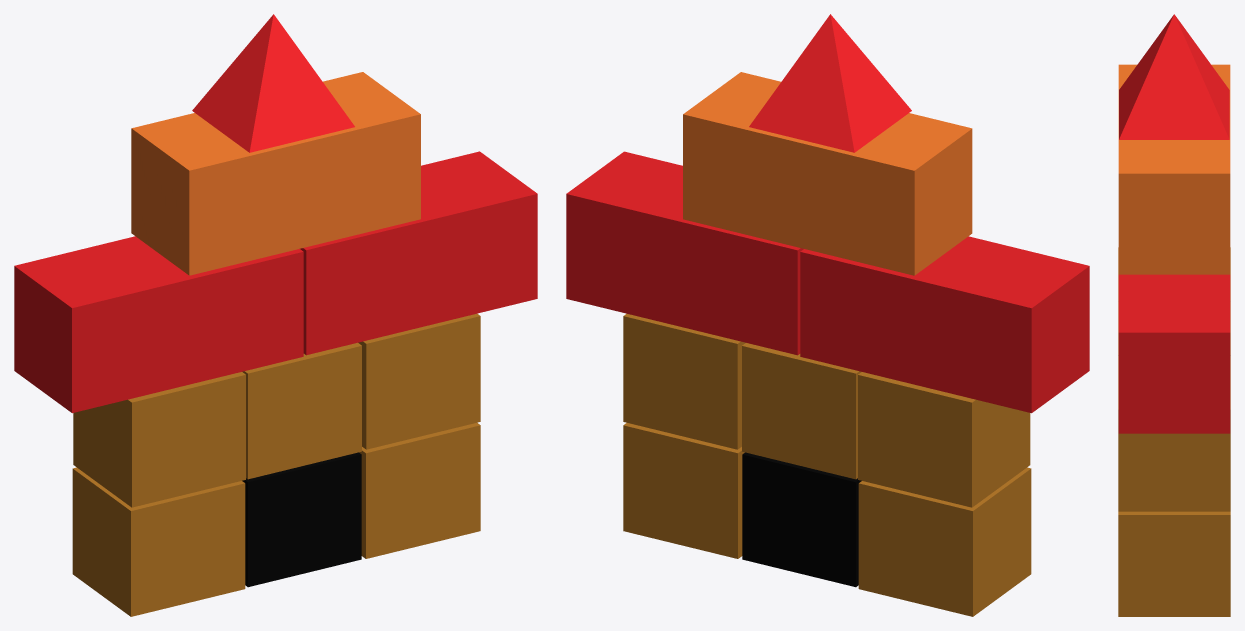
3 views of the same model, side by side, from view 1: azimuth 30°, elevation 25°; view 2: azimuth 150°, elevation 25°; view 3: azimuth 270°, elevation 25° (orthographic). The views are drawn at different scales.
Parts seen in each view (by area): view 1: node_id5, node_id20, node_id11, node_id29, node_id26, node_id14, node_id23, node_id17, node_id8, node_id32; view 2: node_id5, node_id20, node_id11, node_id29, node_id26, node_id14, node_id23, node_id17, node_id8, node_id32; view 3: node_id11, node_id20, node_id14, node_id32, node_id23.
Part boxes in pixels (bbox=[...]): node_id5: bbox=[14, 236, 303, 413]; node_id20: bbox=[131, 72, 420, 275]; node_id11: bbox=[300, 151, 537, 355]; node_id29: bbox=[72, 467, 245, 616]; node_id26: bbox=[73, 372, 245, 507]; node_id14: bbox=[359, 423, 480, 558]; node_id23: bbox=[358, 313, 480, 449]; node_id17: bbox=[242, 342, 361, 479]; node_id8: bbox=[242, 452, 361, 587]; node_id32: bbox=[192, 14, 354, 152]; node_id5: bbox=[800, 236, 1089, 413]; node_id20: bbox=[683, 72, 972, 275]; node_id11: bbox=[566, 151, 803, 355]; node_id29: bbox=[858, 467, 1031, 616]; node_id26: bbox=[858, 372, 1030, 507]; node_id14: bbox=[623, 423, 744, 558]; node_id23: bbox=[623, 314, 745, 449]; node_id17: bbox=[742, 343, 861, 479]; node_id8: bbox=[742, 452, 861, 587]; node_id32: bbox=[749, 14, 911, 152]; node_id11: bbox=[1118, 274, 1230, 433]; node_id20: bbox=[1118, 64, 1230, 274]; node_id14: bbox=[1118, 511, 1230, 616]; node_id32: bbox=[1119, 14, 1229, 139]; node_id23: bbox=[1118, 356, 1230, 511].
Size of the model in its own units: 0.4622 by 0.512 by 0.1004.
10 materials, 10 textured.
